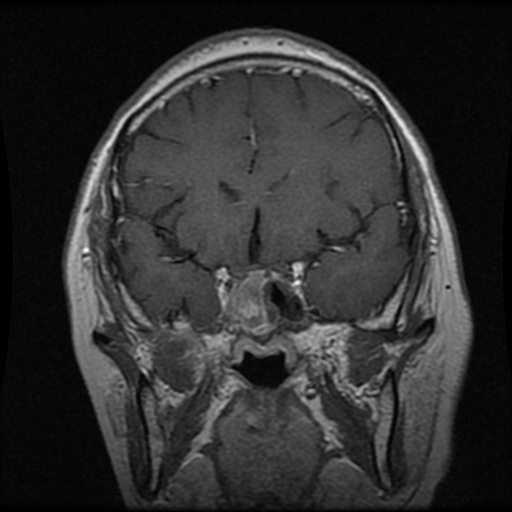pituitary: (222, 269, 272, 333)
